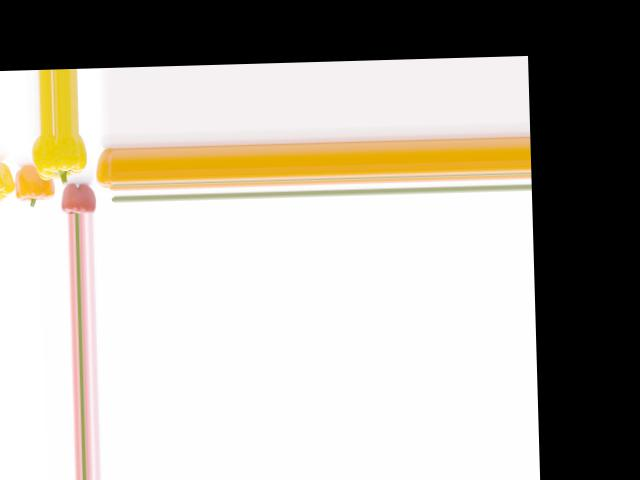bell_pepper: (93, 147, 115, 192)
